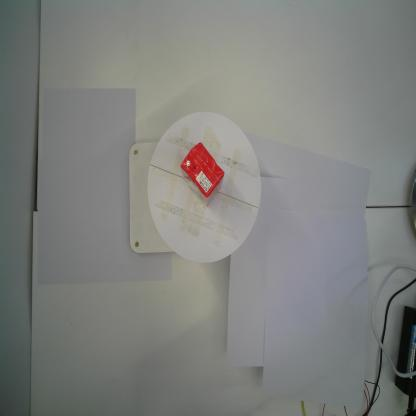Milk: (180, 142, 225, 206)
